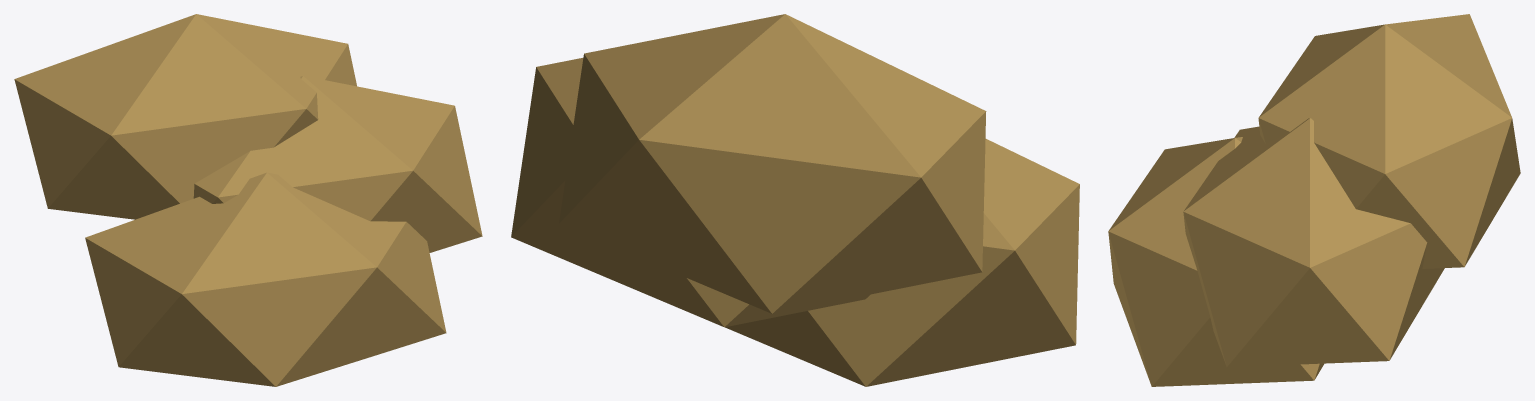
File: w3d_item_emmer_seed_m.glb
3 renders of one model, left to right at view 1: azimuth 30°, elevation 25°; view 2: azimuth 150°, elevation 25°; view 3: azimuth 270°, elevation 25°, orthographic. The views are drawn at different scales.
Parts seen in each view (by area): view 1: item_031_emmer_seed_m; view 2: item_031_emmer_seed_m; view 3: item_031_emmer_seed_m.
Part boxes in pixels (left/top/right/bottom): item_031_emmer_seed_m: left=14, top=14, right=482, bottom=386; item_031_emmer_seed_m: left=511, top=14, right=1079, bottom=386; item_031_emmer_seed_m: left=1108, top=14, right=1520, bottom=386.
Bounding box in the file's own units: 0.3644 × 0.296 × 0.3296.
